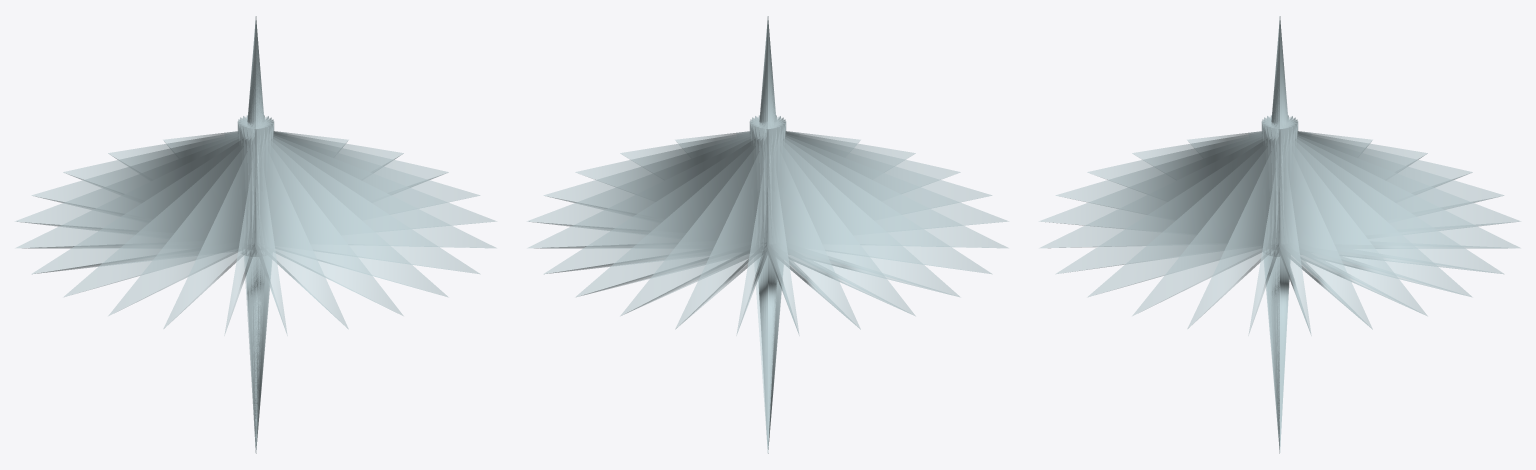
3 views of the same model, side by side, from view 1: azimuth 30°, elevation 25°; view 2: azimuth 150°, elevation 25°; view 3: azimuth 270°, elevation 25° (orthographic).
Parts seen in each view (by area): view 1: test-tube.glb; view 2: test-tube.glb; view 3: test-tube.glb.
Part boxes in pixels (x1,y1,x2,y2): test-tube.glb: (15, 16, 496, 453); test-tube.glb: (527, 16, 1008, 453); test-tube.glb: (1039, 16, 1520, 453).
Bounding box in the file's own units: 1.98 × 2 × 1.98.
